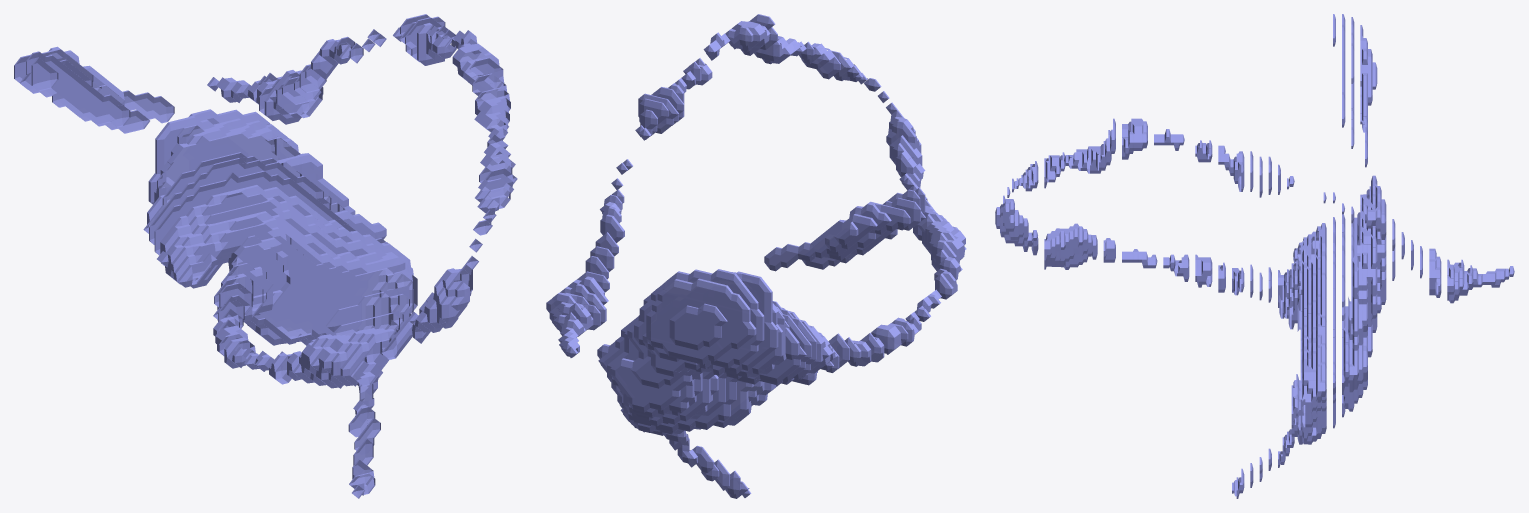
The model's file is SVV_IL1DR.gltf.
3 renders of one model, left to right at view 1: azimuth 30°, elevation 25°; view 2: azimuth 150°, elevation 25°; view 3: azimuth 270°, elevation 25°, orthographic. The views are drawn at different scales.
Parts seen in each view (by area): view 1: IL1DR; view 2: IL1DR; view 3: IL1DR.
Part boxes in pixels (box(x1,y1,x2,y2)): IL1DR: box(14, 14, 517, 498); IL1DR: box(546, 14, 966, 498); IL1DR: box(995, 14, 1514, 498).
Size of the model in its own units: 29717 by 36375 by 43544.
